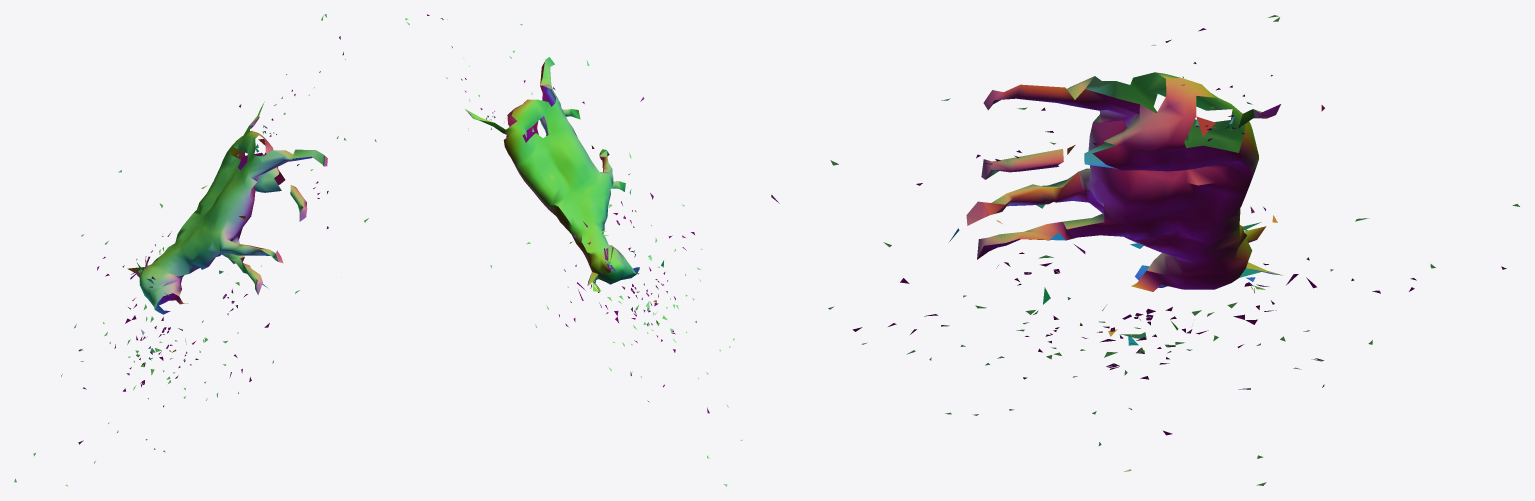
Rendered from zeometry-fragments-ruins-shattered-fragment_v1.fbx.
The picture shows the model from 3 angles, left to right: view 1: azimuth 30°, elevation 25°; view 2: azimuth 150°, elevation 25°; view 3: azimuth 270°, elevation 25°; orthographic projection. The views are drawn at different scales.
Visible parts, largest first — view 1: Shattered Fragment_v1; view 2: Shattered Fragment_v1; view 3: Shattered Fragment_v1.
Part boxes in pixels (box(x1,y1,x2,y2)): Shattered Fragment_v1: box(14, 14, 376, 486); Shattered Fragment_v1: box(405, 14, 742, 486); Shattered Fragment_v1: box(771, 15, 1519, 485).
Size of the model in its own units: 0.4237 by 0.5 by 0.4359.
